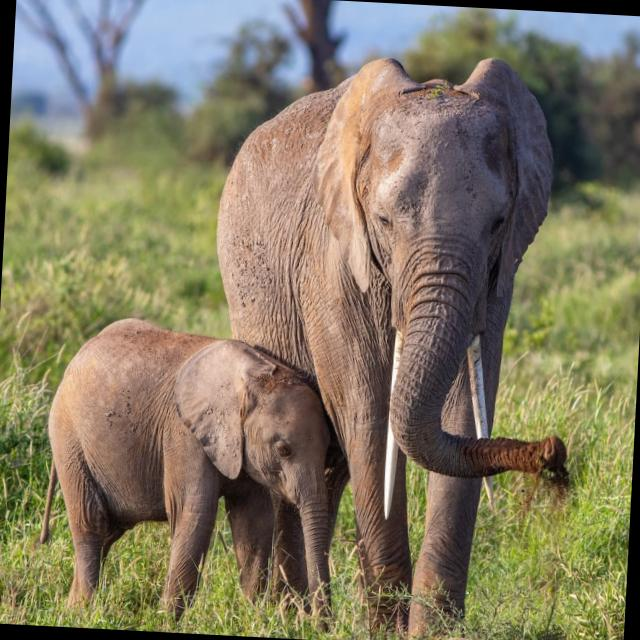Animals: (264, 31, 586, 550), (44, 313, 331, 627)
